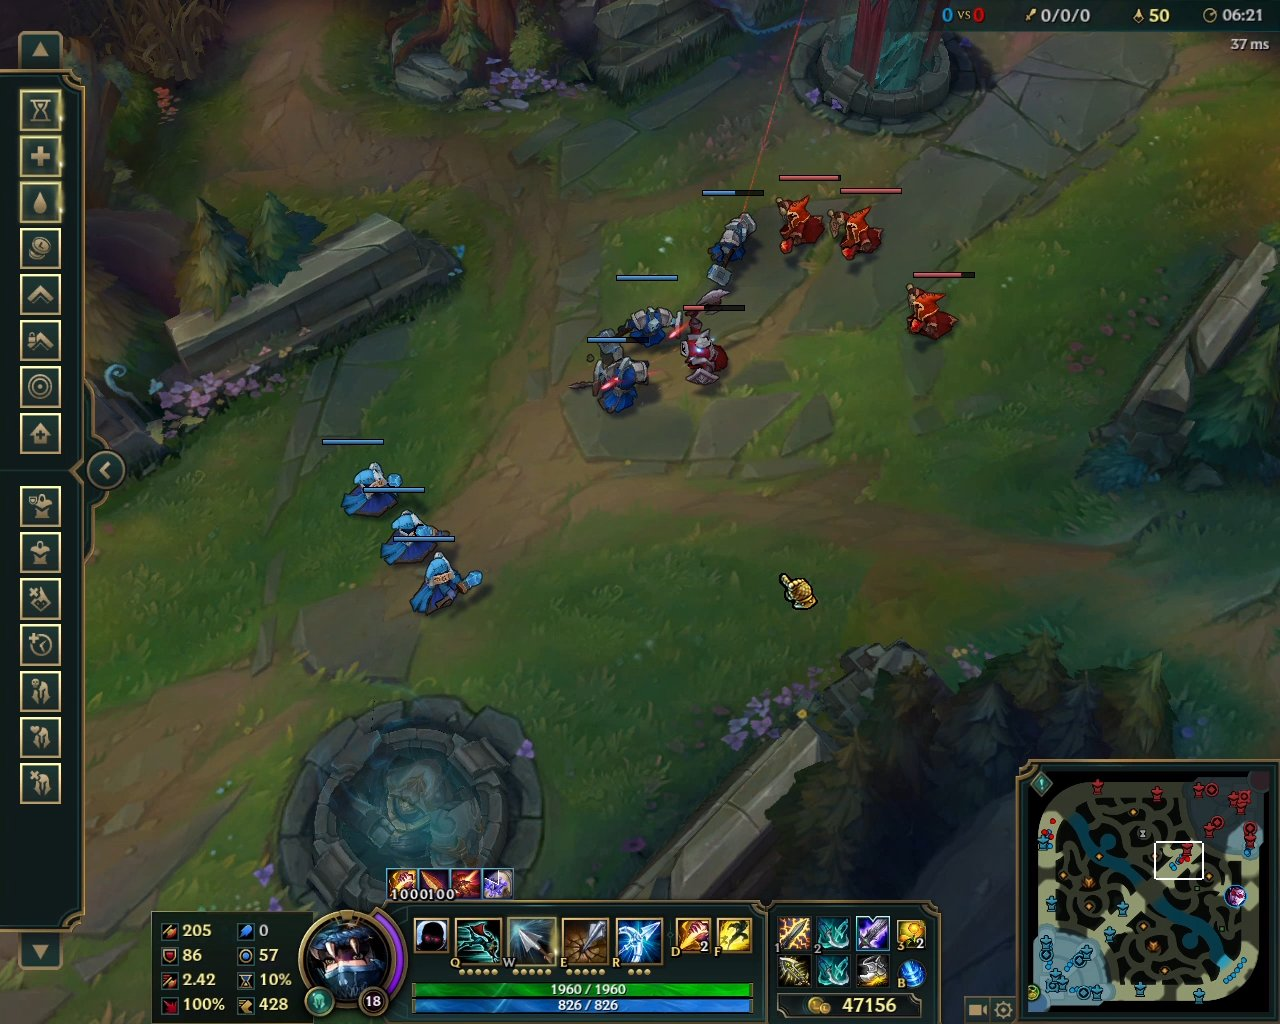EnemyMinion: (675, 287, 752, 388), (824, 188, 905, 265), (768, 174, 840, 257), (899, 271, 975, 345)
